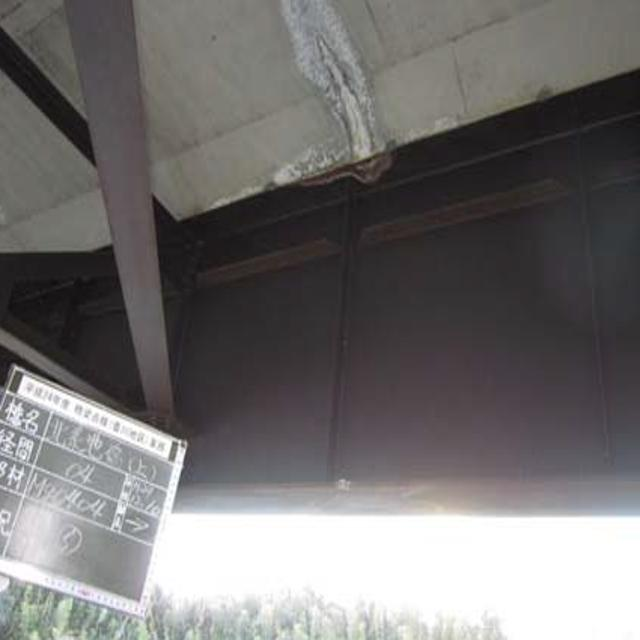freelime: (256, 6, 387, 190)
